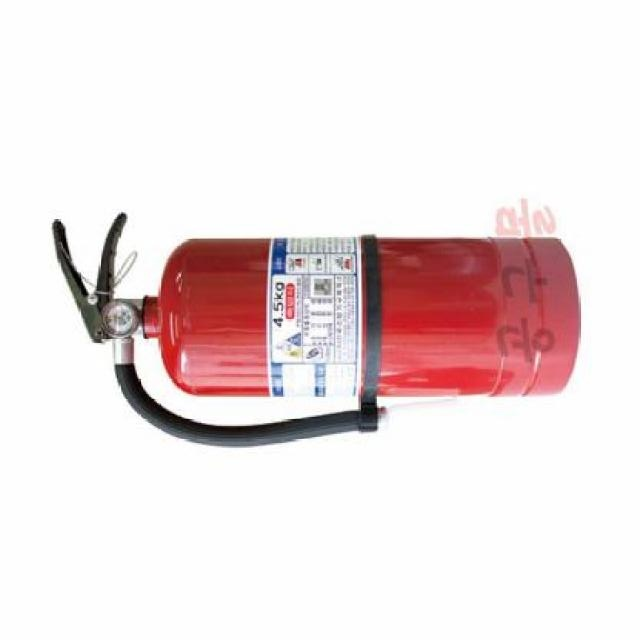fire extinguisher: (52, 210, 580, 448)
